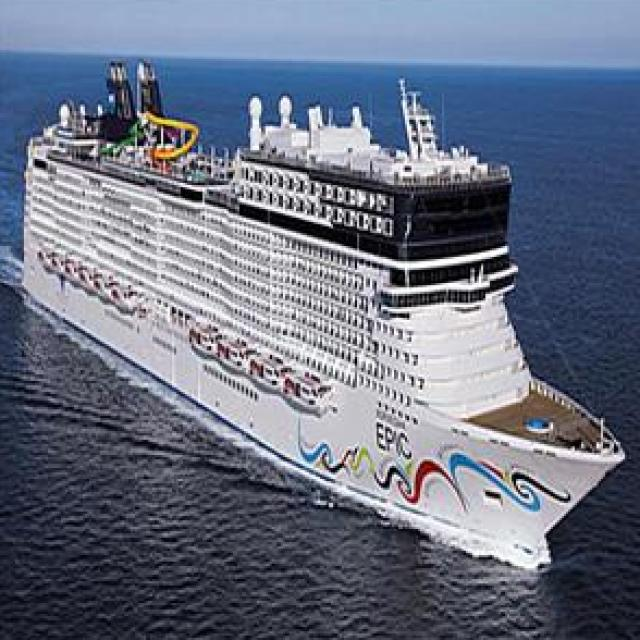passenger ship: (13, 51, 625, 554)
